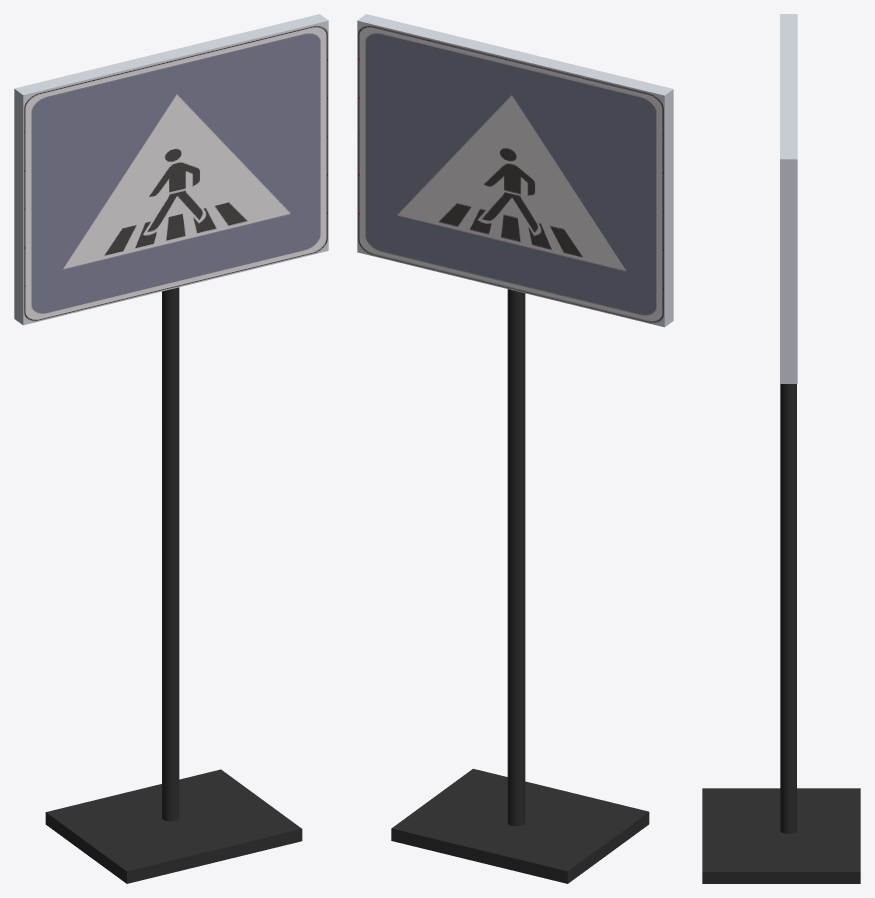
The model's file is schild_zebra_rechteckig.FBX.
3 renders of one model, left to right at view 1: azimuth 30°, elevation 25°; view 2: azimuth 150°, elevation 25°; view 3: azimuth 270°, elevation 25°, orthographic. The views are drawn at different scales.
Parts seen in each view (by area): view 1: schild_rechteckig, schildständer; view 2: schild_rechteckig, schildständer; view 3: schildständer, schild_rechteckig.
Part boxes in pixels (box(x1,y1,x2,y2)): schild_rechteckig: box(14, 14, 328, 325); schildständer: box(45, 287, 302, 883); schild_rechteckig: box(357, 14, 673, 327); schildständer: box(391, 289, 649, 883); schildständer: box(702, 384, 860, 883); schild_rechteckig: box(780, 14, 797, 383).
Size of the model in its own units: 15.36 by 7.06 by 37.27.
Materials: 2 (1 with a texture image).
